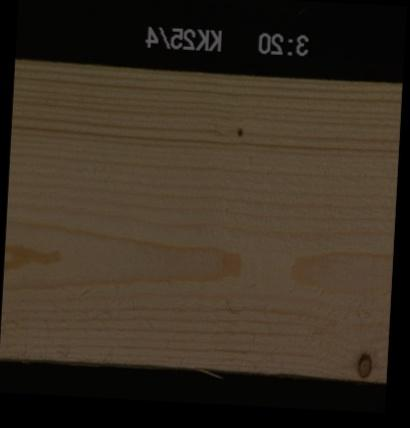small_knot: (235, 123, 244, 137)
